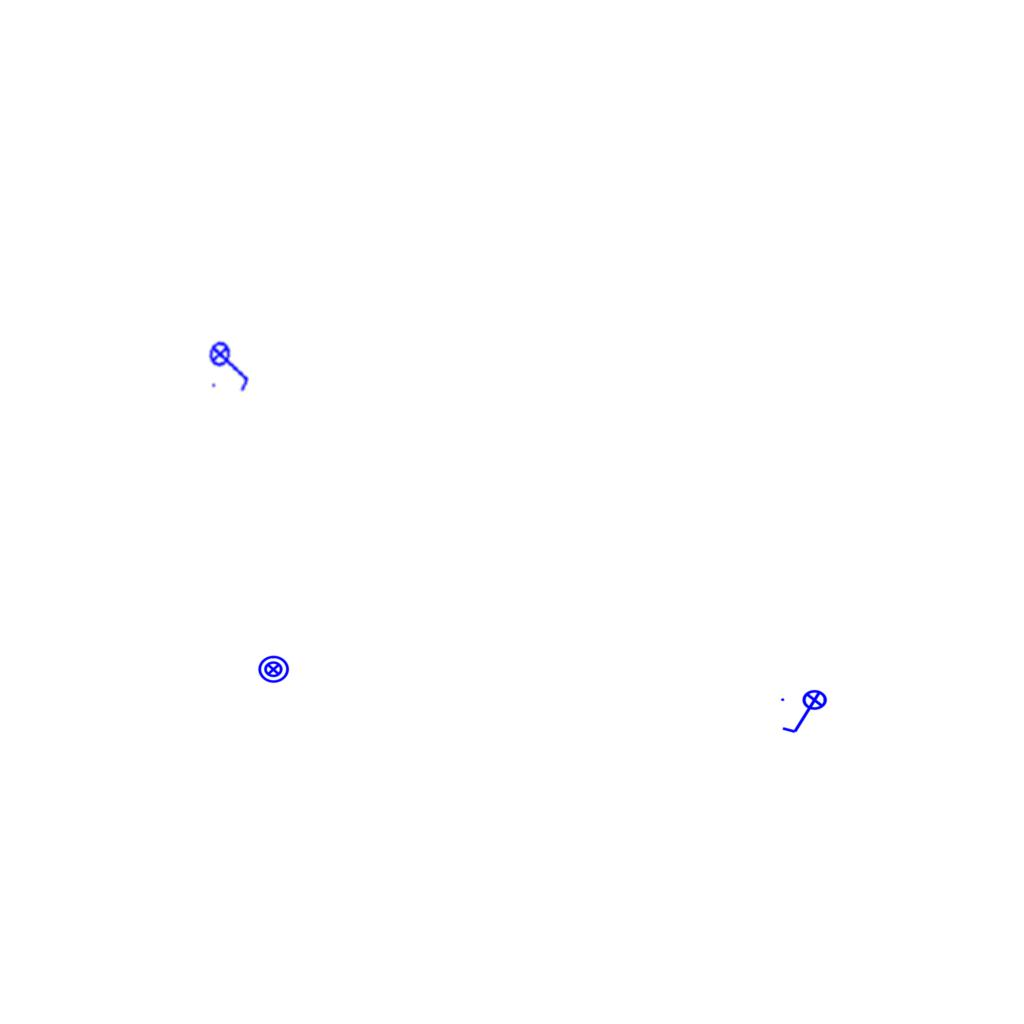Ausschalter_beleuchtet: (202, 332, 260, 398), (778, 689, 834, 737)
Taster_beleuchtet: (257, 653, 290, 686)
